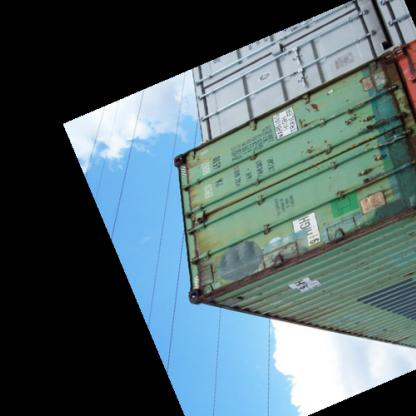Damage: (353, 54, 403, 194), (284, 210, 400, 260), (187, 254, 295, 302)
